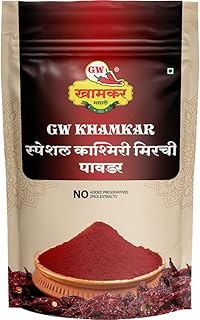Chilli Powder: (1, 2, 200, 320)
